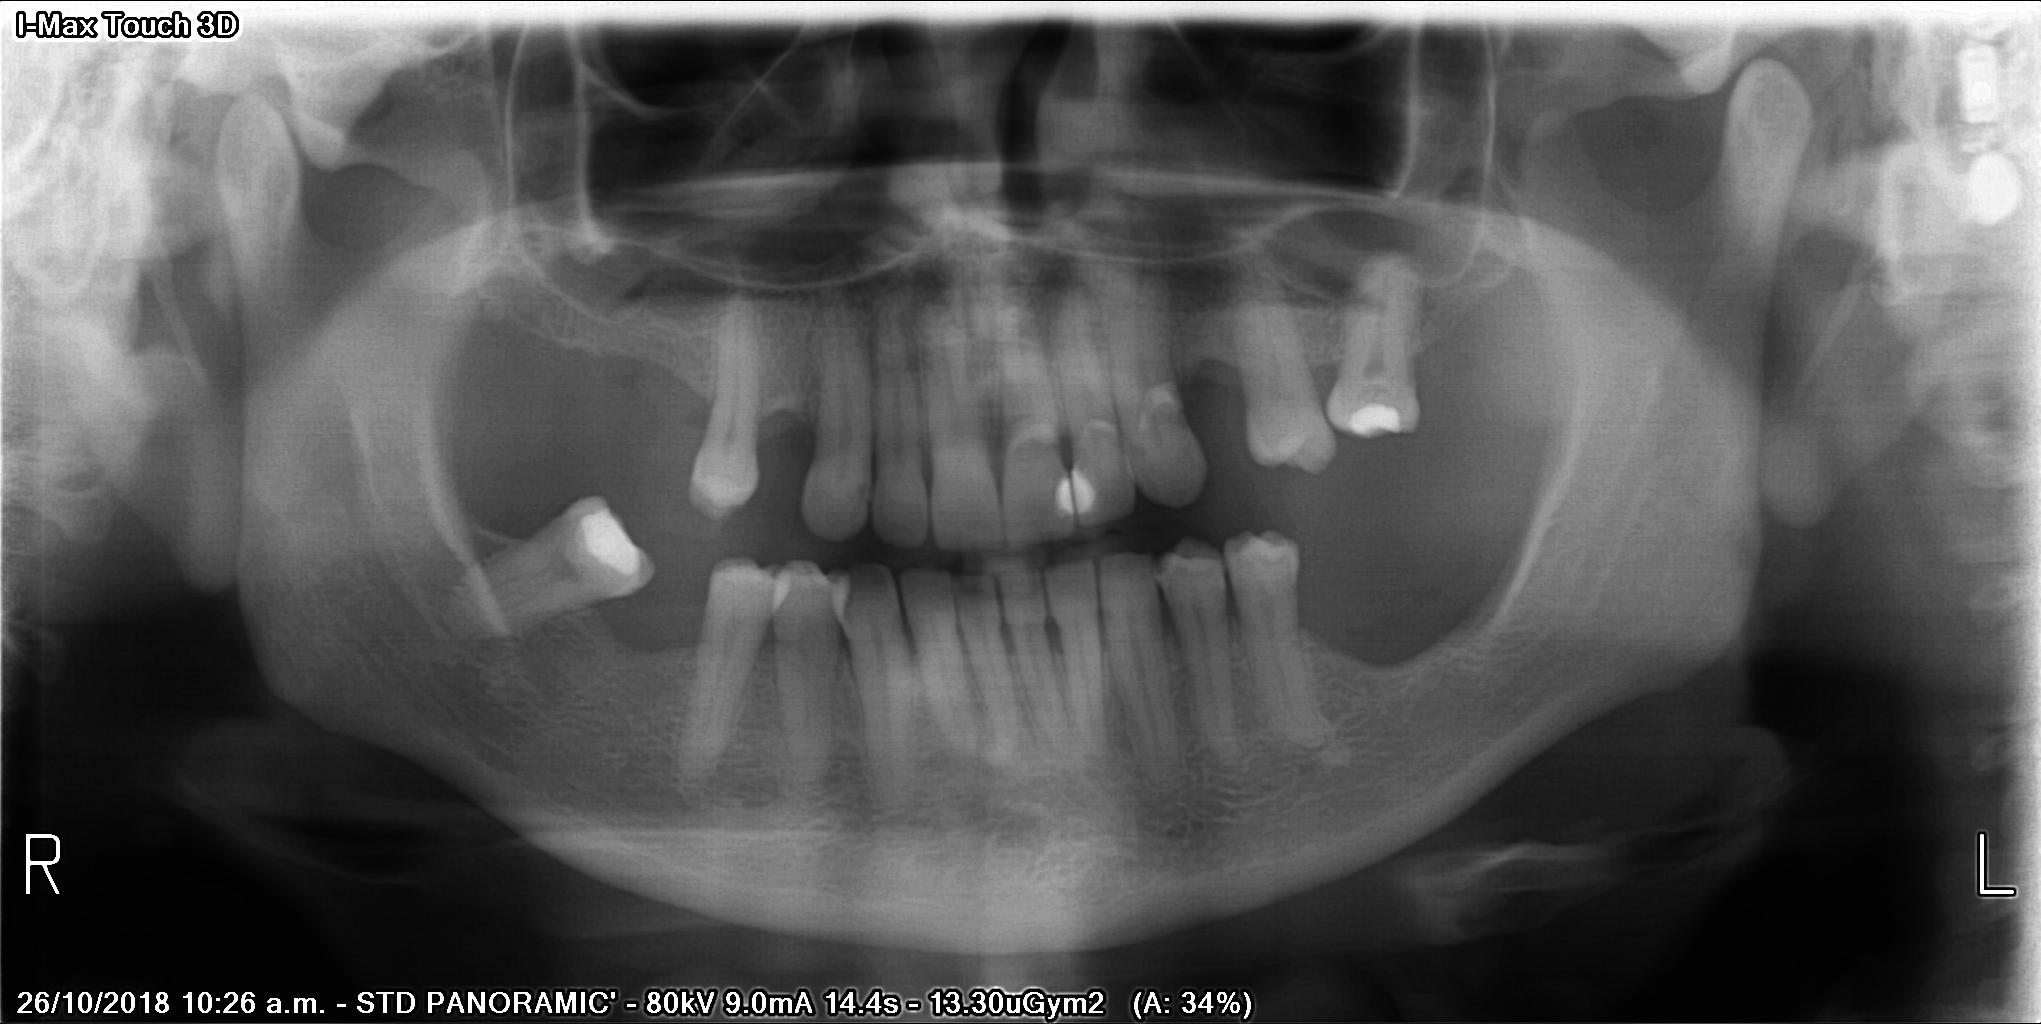Çürük: (568, 502, 653, 580), (1341, 393, 1416, 444), (1073, 456, 1103, 522), (1052, 460, 1076, 525)
Çürük Bölgesi: (859, 469, 881, 530)
